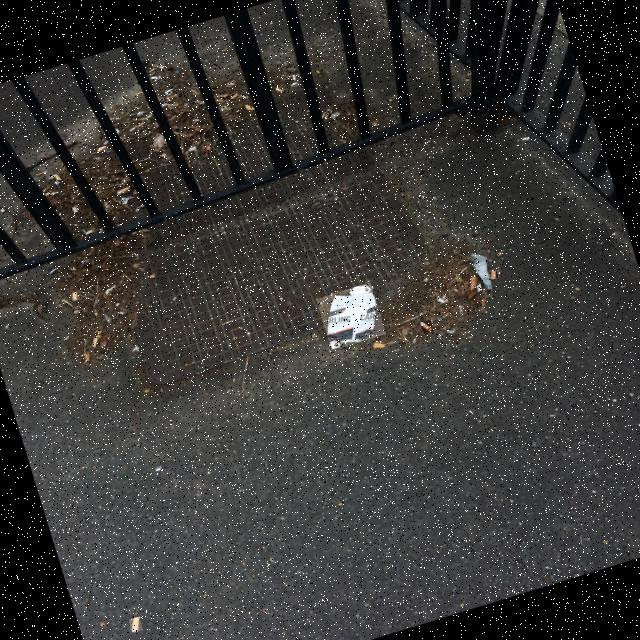Cigarette: (421, 321, 433, 331), (133, 617, 140, 632), (117, 187, 128, 194), (374, 342, 385, 348), (92, 337, 98, 347), (49, 267, 57, 274), (492, 269, 497, 279), (96, 330, 102, 338), (437, 296, 445, 302), (165, 88, 174, 93), (166, 94, 177, 98), (230, 93, 237, 99), (98, 146, 106, 151), (72, 205, 77, 212), (137, 121, 144, 126), (291, 82, 298, 87), (74, 291, 78, 299), (36, 171, 44, 175), (55, 175, 60, 181), (276, 86, 282, 91), (246, 104, 251, 109), (149, 67, 155, 71), (227, 81, 235, 84), (326, 111, 330, 117), (241, 94, 247, 98), (135, 92, 142, 95), (50, 191, 55, 195), (87, 229, 92, 233), (152, 77, 158, 80), (447, 329, 453, 332), (159, 66, 166, 68), (293, 74, 295, 78), (24, 211, 26, 214)
Drink can: (329, 285, 377, 343)
Pop tab: (330, 340, 341, 348)
Unlabeled litter: (470, 253, 493, 290)
